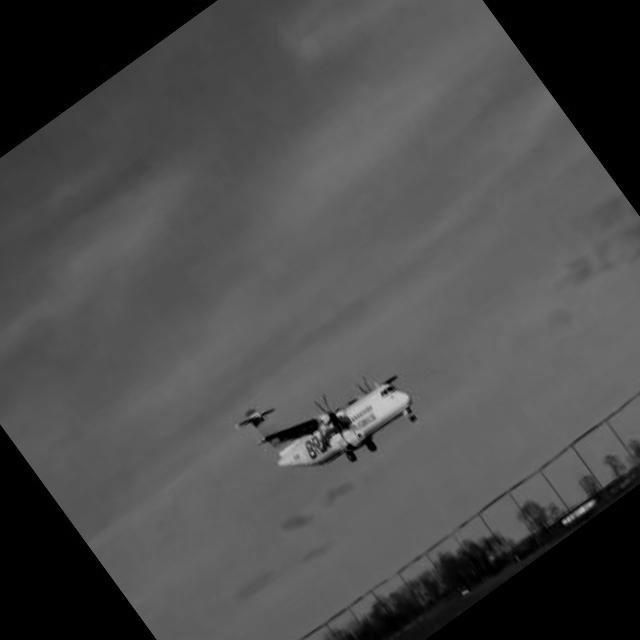aeroplane: (235, 325, 428, 506)
